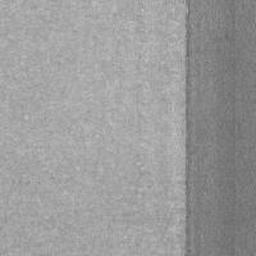Welding line: (183, 0, 193, 256)
